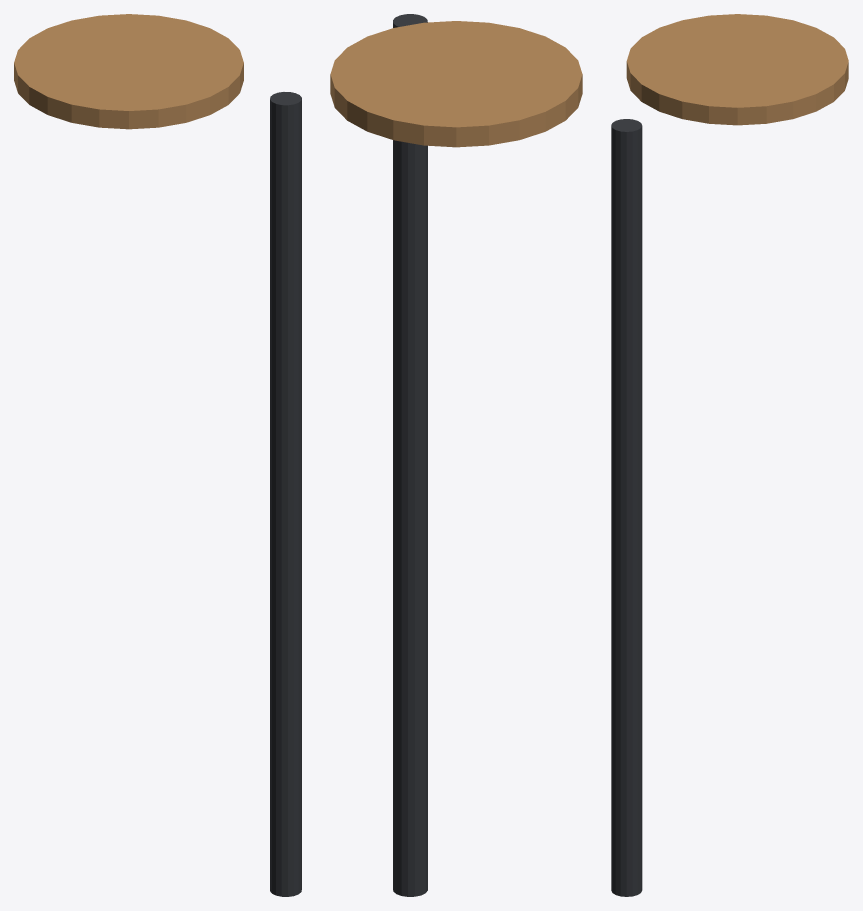
The model's file is coat_rack_standing.glb.
3 views of the same model, side by side, from view 1: azimuth 30°, elevation 25°; view 2: azimuth 150°, elevation 25°; view 3: azimuth 270°, elevation 25° (orthographic). The views are drawn at different scales.
Bounding box in the file's own units: 0.4892 × 1.78 × 0.4892.
